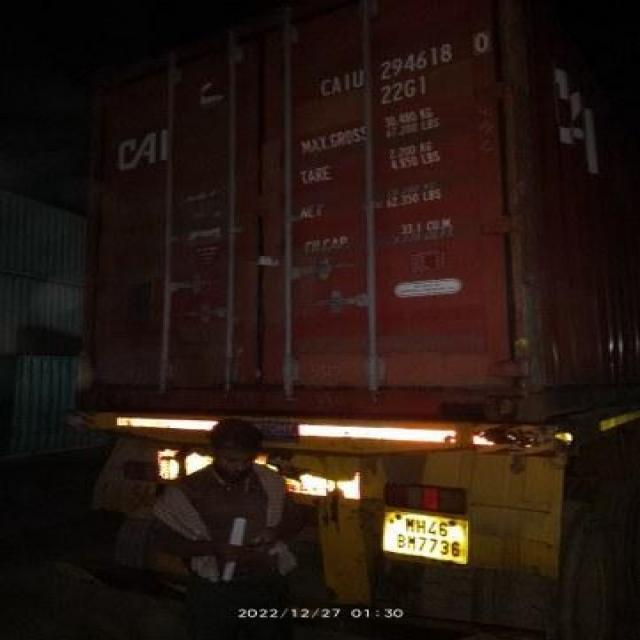ISO: (374, 76, 436, 111)
container_number: (309, 32, 502, 104)
